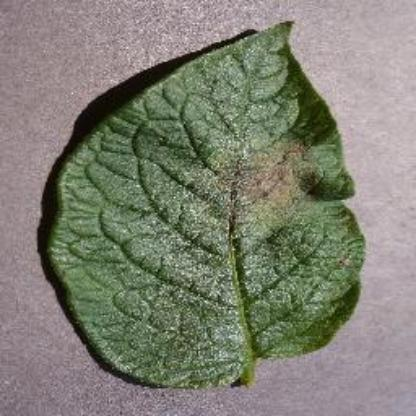Late-Blight: (28, 16, 404, 414)
